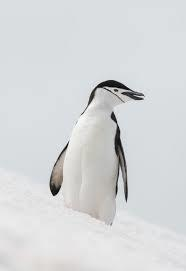chinstrap: (31, 69, 153, 247)
